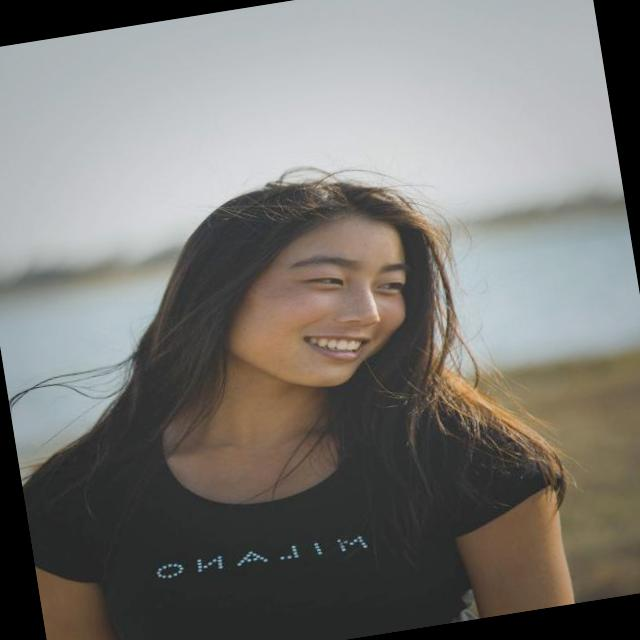person: (0, 131, 595, 640)
